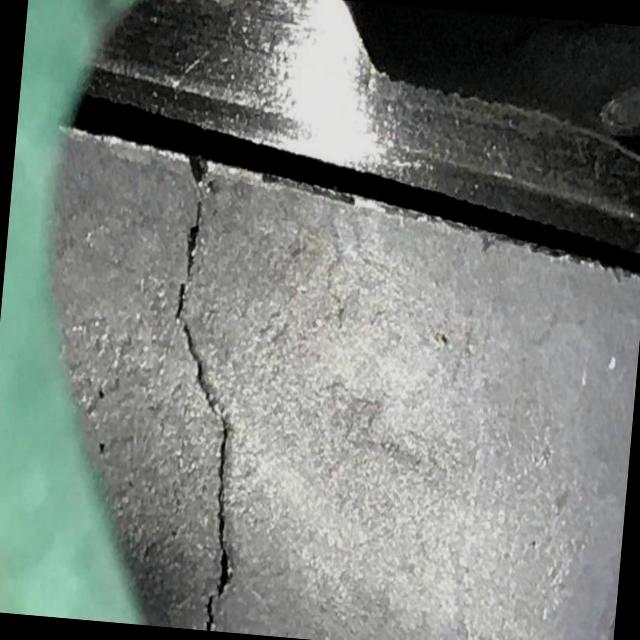defect: (162, 159, 237, 630)
